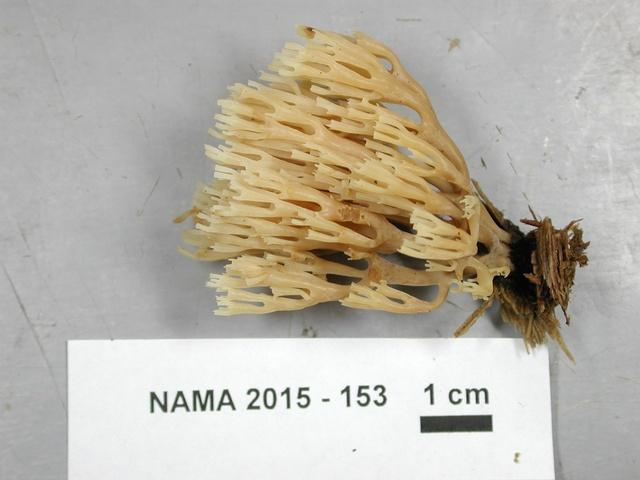edible_mushroom: (173, 23, 515, 319)
